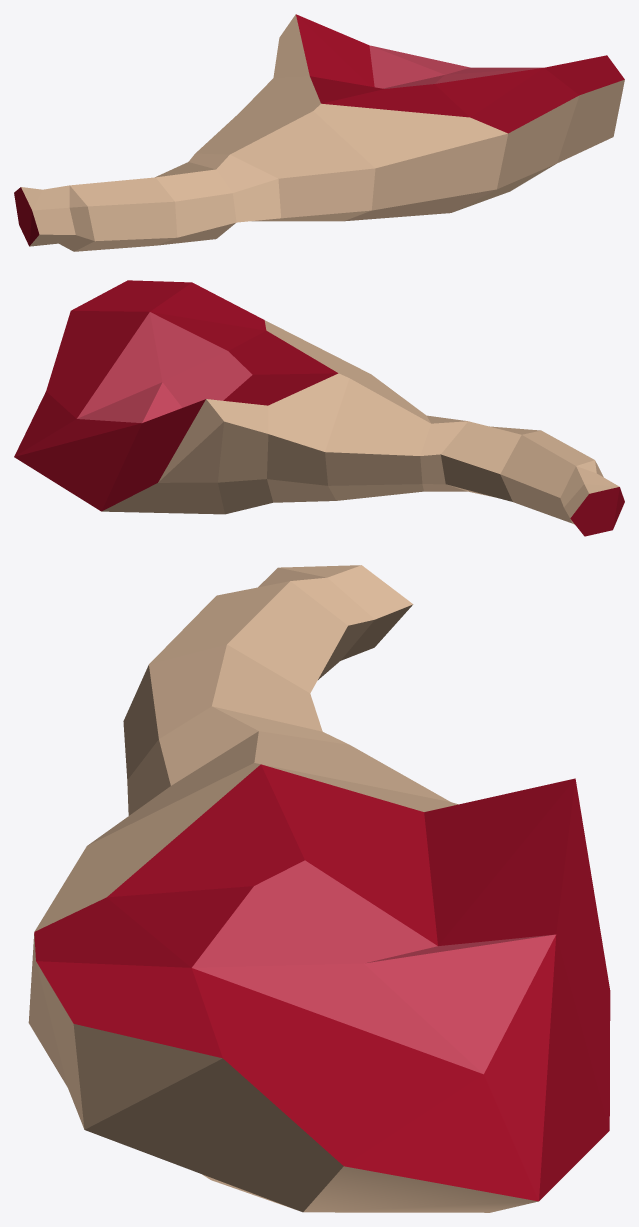
File: pigskank.fbx
The picture shows the model from 3 angles, top to bottom: view 1: azimuth 30°, elevation 25°; view 2: azimuth 150°, elevation 25°; view 3: azimuth 270°, elevation 25°; orthographic projection. The views are drawn at different scales.
Parts seen in each view (by area): view 1: pigskank; view 2: pigskank; view 3: pigskank.
Part boxes in pixels (x1,y1,x2,y2): pigskank: (14,14,624,251); pigskank: (14,280,624,536); pigskank: (28,565,610,1212).
Bounding box in the file's own units: 1.01 × 0.2754 × 0.4546.
